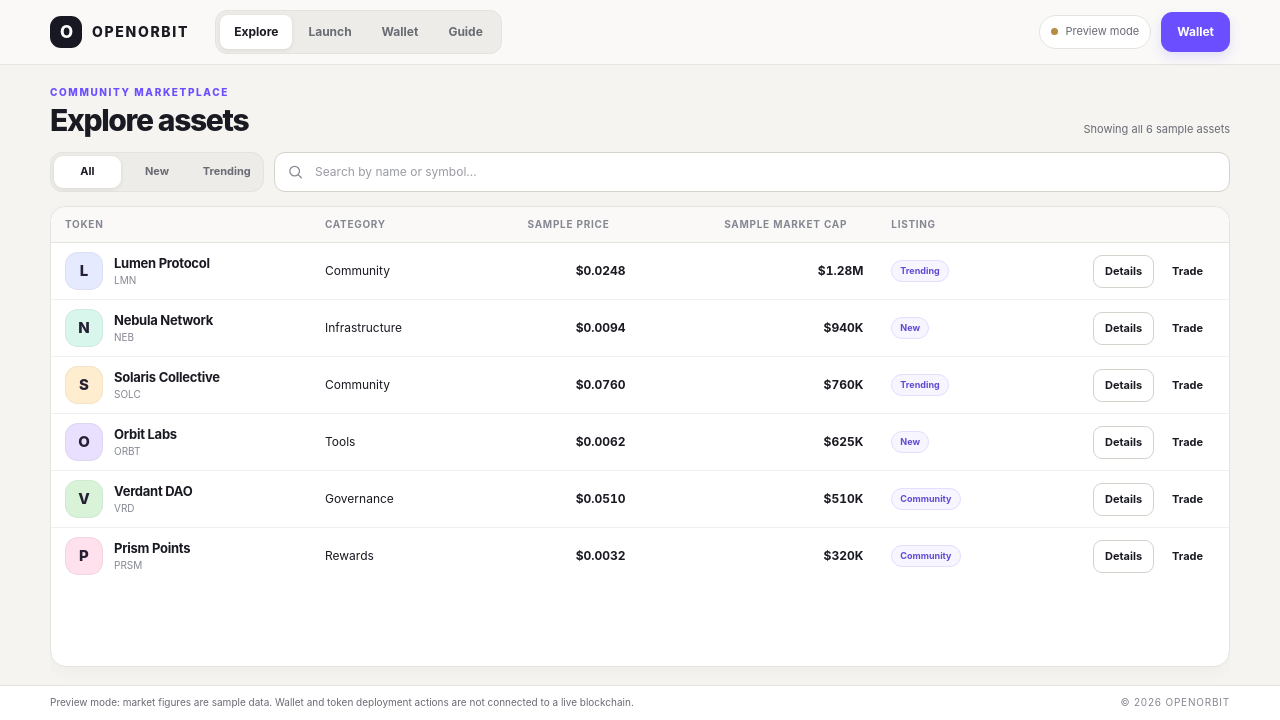
Test: catalog search feedback › recovers from the empty state by clearing just the search term
Step 1. Click the button "Trending" → (227,172), box [193, 156, 260, 188]
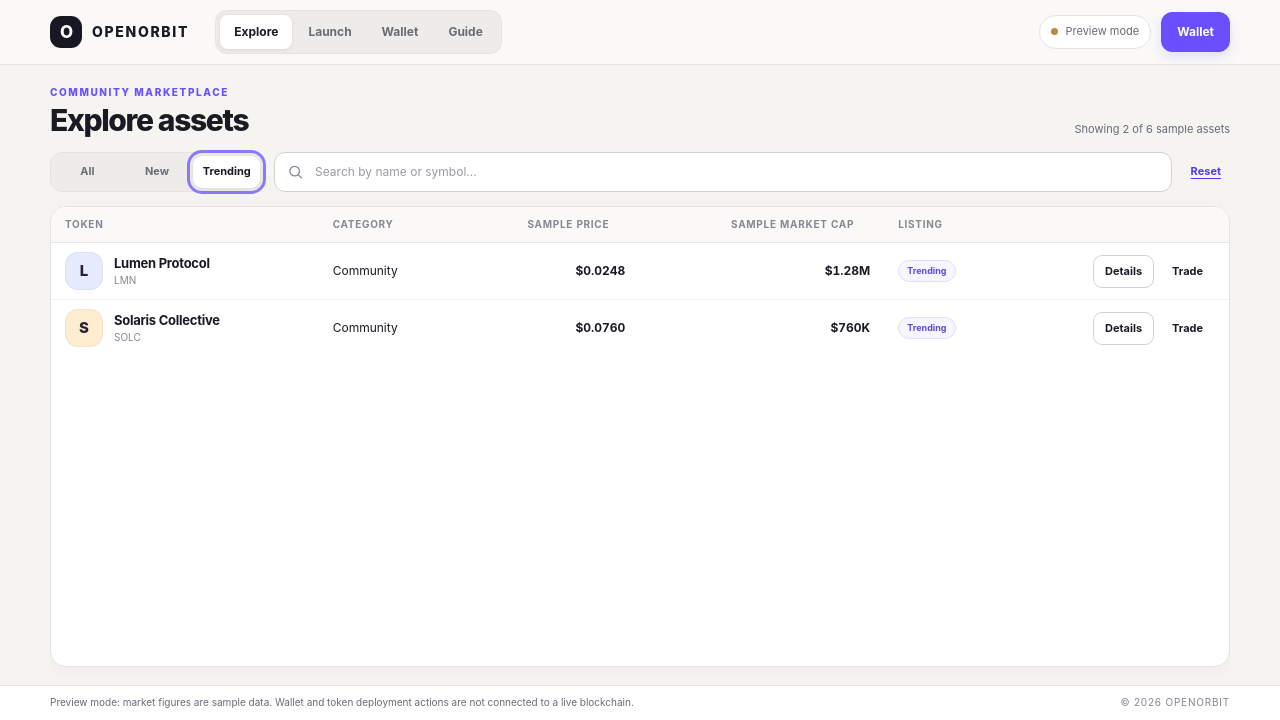
Step 2. Type "Nebula" into the field named "Search assets" → (723,172), box [274, 152, 1172, 192]
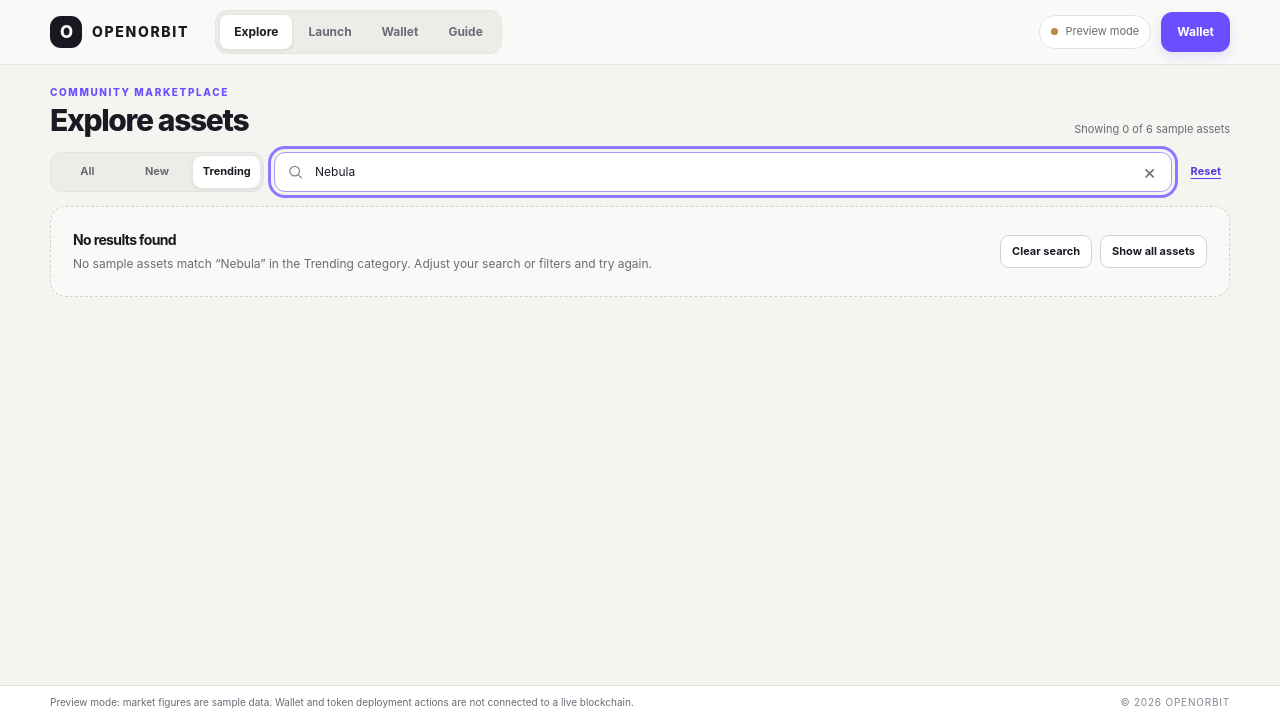
Result: the heading "No results found" is shown at [73, 231, 176, 248]
Step 3. Click the button "Clear search" → (1046,251), box [1000, 235, 1092, 268]
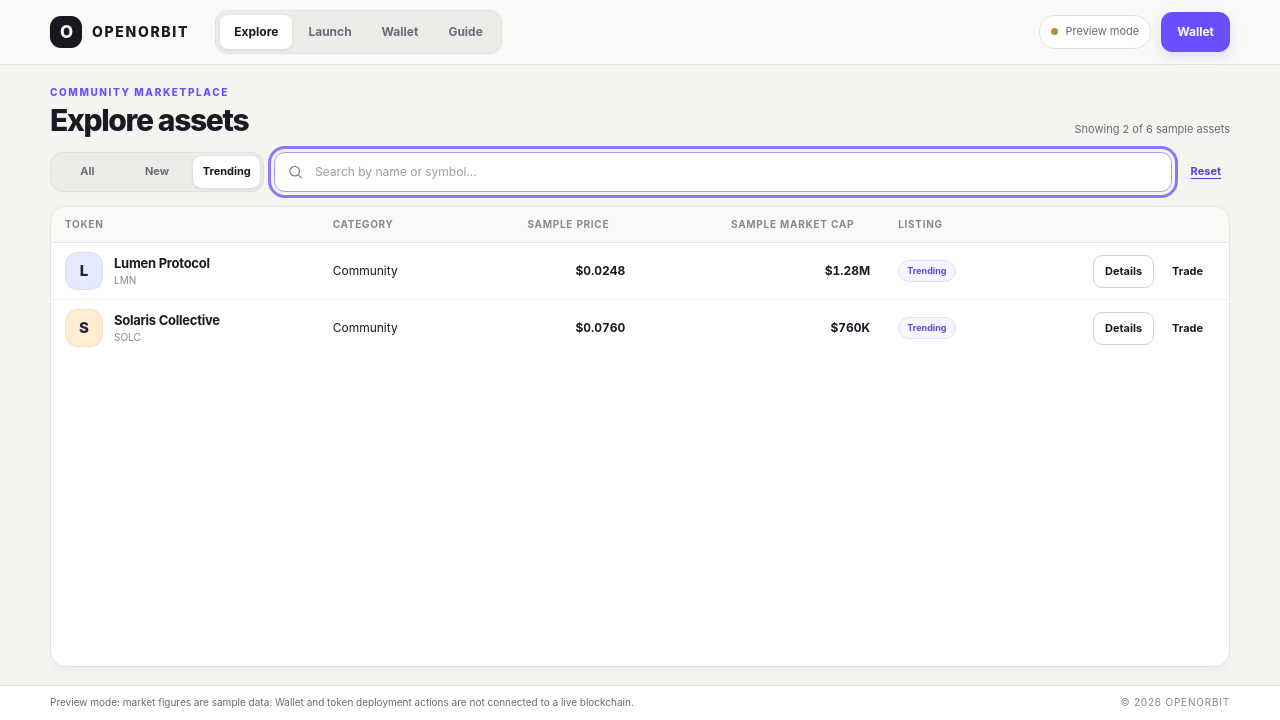
Result: the field named "Search assets" is empty at [274, 152, 1172, 192]
Result: the heading "No results found" is gone
Result: the text "Lumen Protocol" is shown at [114, 253, 210, 273]
